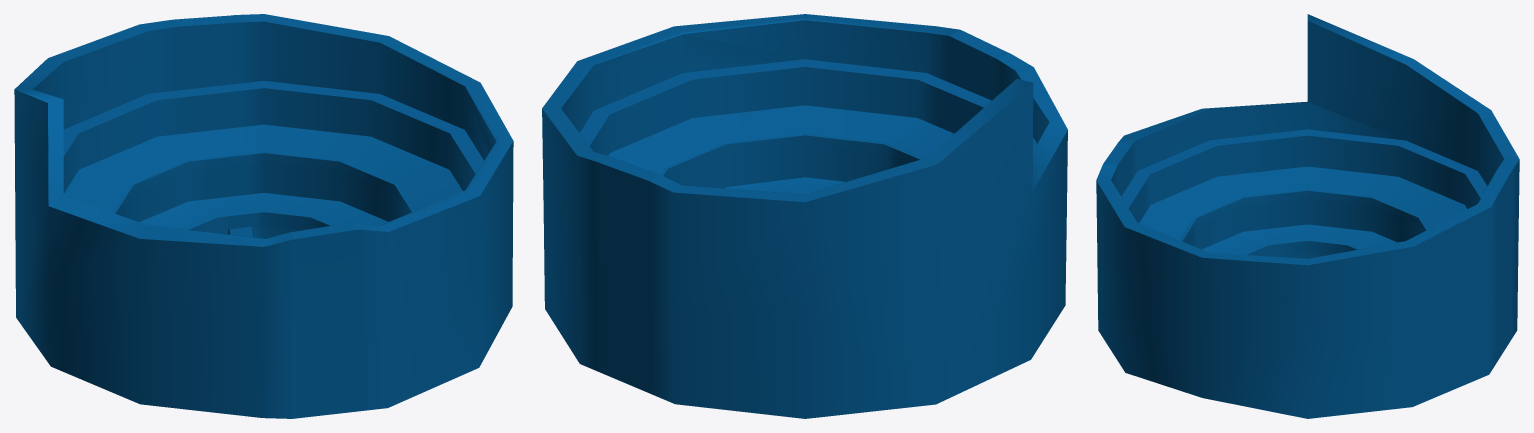
File: Arena2.fbx
3 renders of one model, left to right at view 1: azimuth 30°, elevation 25°; view 2: azimuth 150°, elevation 25°; view 3: azimuth 270°, elevation 25°, orthographic. The views are drawn at different scales.
Parts seen in each view (by area): view 1: Arena; view 2: Arena; view 3: Arena.
Boxes of the visible parts, x1,y1,x2,y2 form: Arena: (14,14,513,418); Arena: (542,14,1067,418); Arena: (1096,14,1519,418).
Size of the model in its own units: 11947 by 7056 by 11934.
